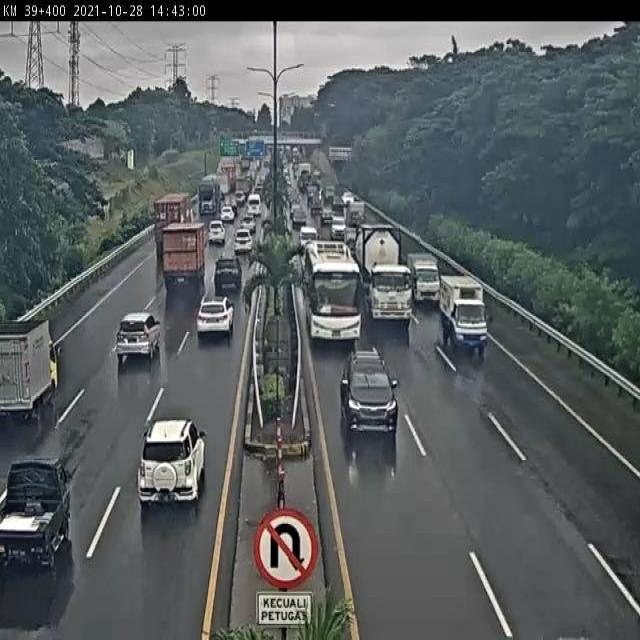big truck: (163, 223, 209, 289), (156, 193, 199, 260)
bus-l-: (305, 240, 360, 343)
car: (137, 417, 208, 507), (341, 348, 399, 433), (117, 312, 165, 363), (196, 294, 236, 342), (214, 254, 243, 290), (298, 228, 321, 257), (234, 230, 253, 250), (209, 220, 224, 243)
small truck: (0, 457, 78, 572), (0, 316, 64, 419)
truck-s-: (442, 273, 492, 359), (409, 253, 442, 307)
truck-xl-: (356, 223, 417, 325)
